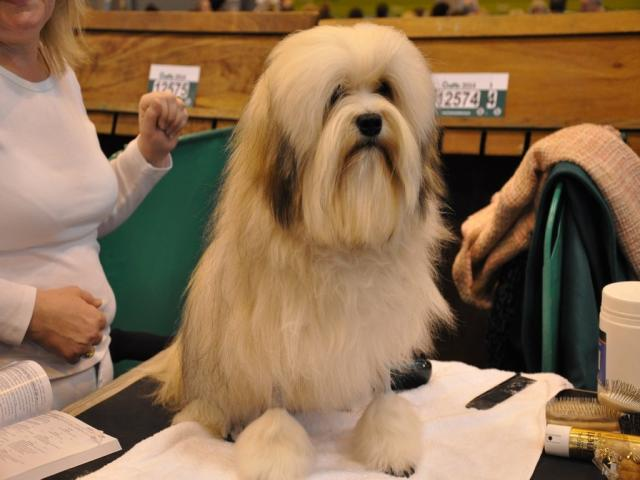Dog: (133, 20, 466, 478)
